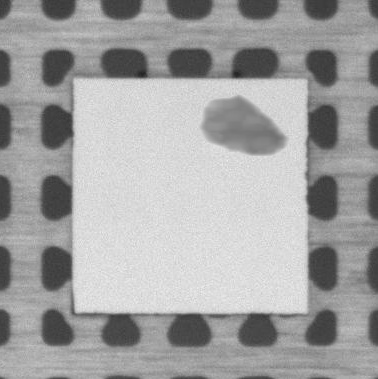DIE_INK: (195, 92, 286, 156)
